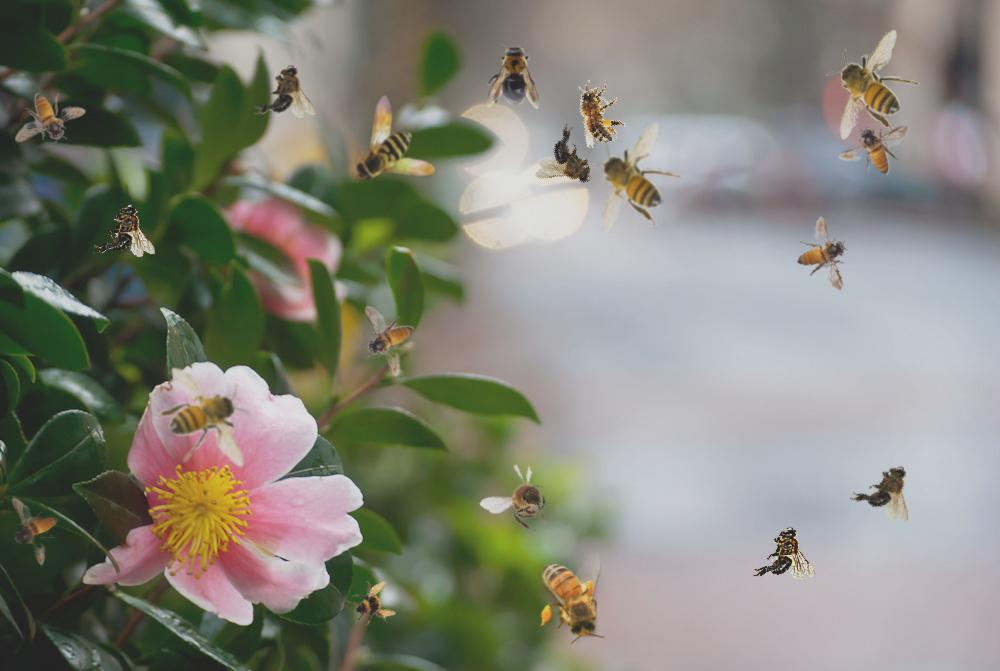Bee: (134, 352, 277, 490), (826, 29, 920, 140), (588, 122, 682, 233), (478, 454, 571, 544), (353, 95, 435, 183), (531, 120, 610, 202), (537, 551, 605, 644), (847, 452, 926, 526), (565, 72, 631, 151), (793, 213, 853, 292), (838, 125, 909, 175), (10, 496, 60, 567), (15, 93, 86, 143), (364, 306, 414, 377), (487, 41, 539, 109), (342, 574, 400, 632), (93, 204, 155, 257), (254, 65, 316, 118), (753, 527, 815, 580)
